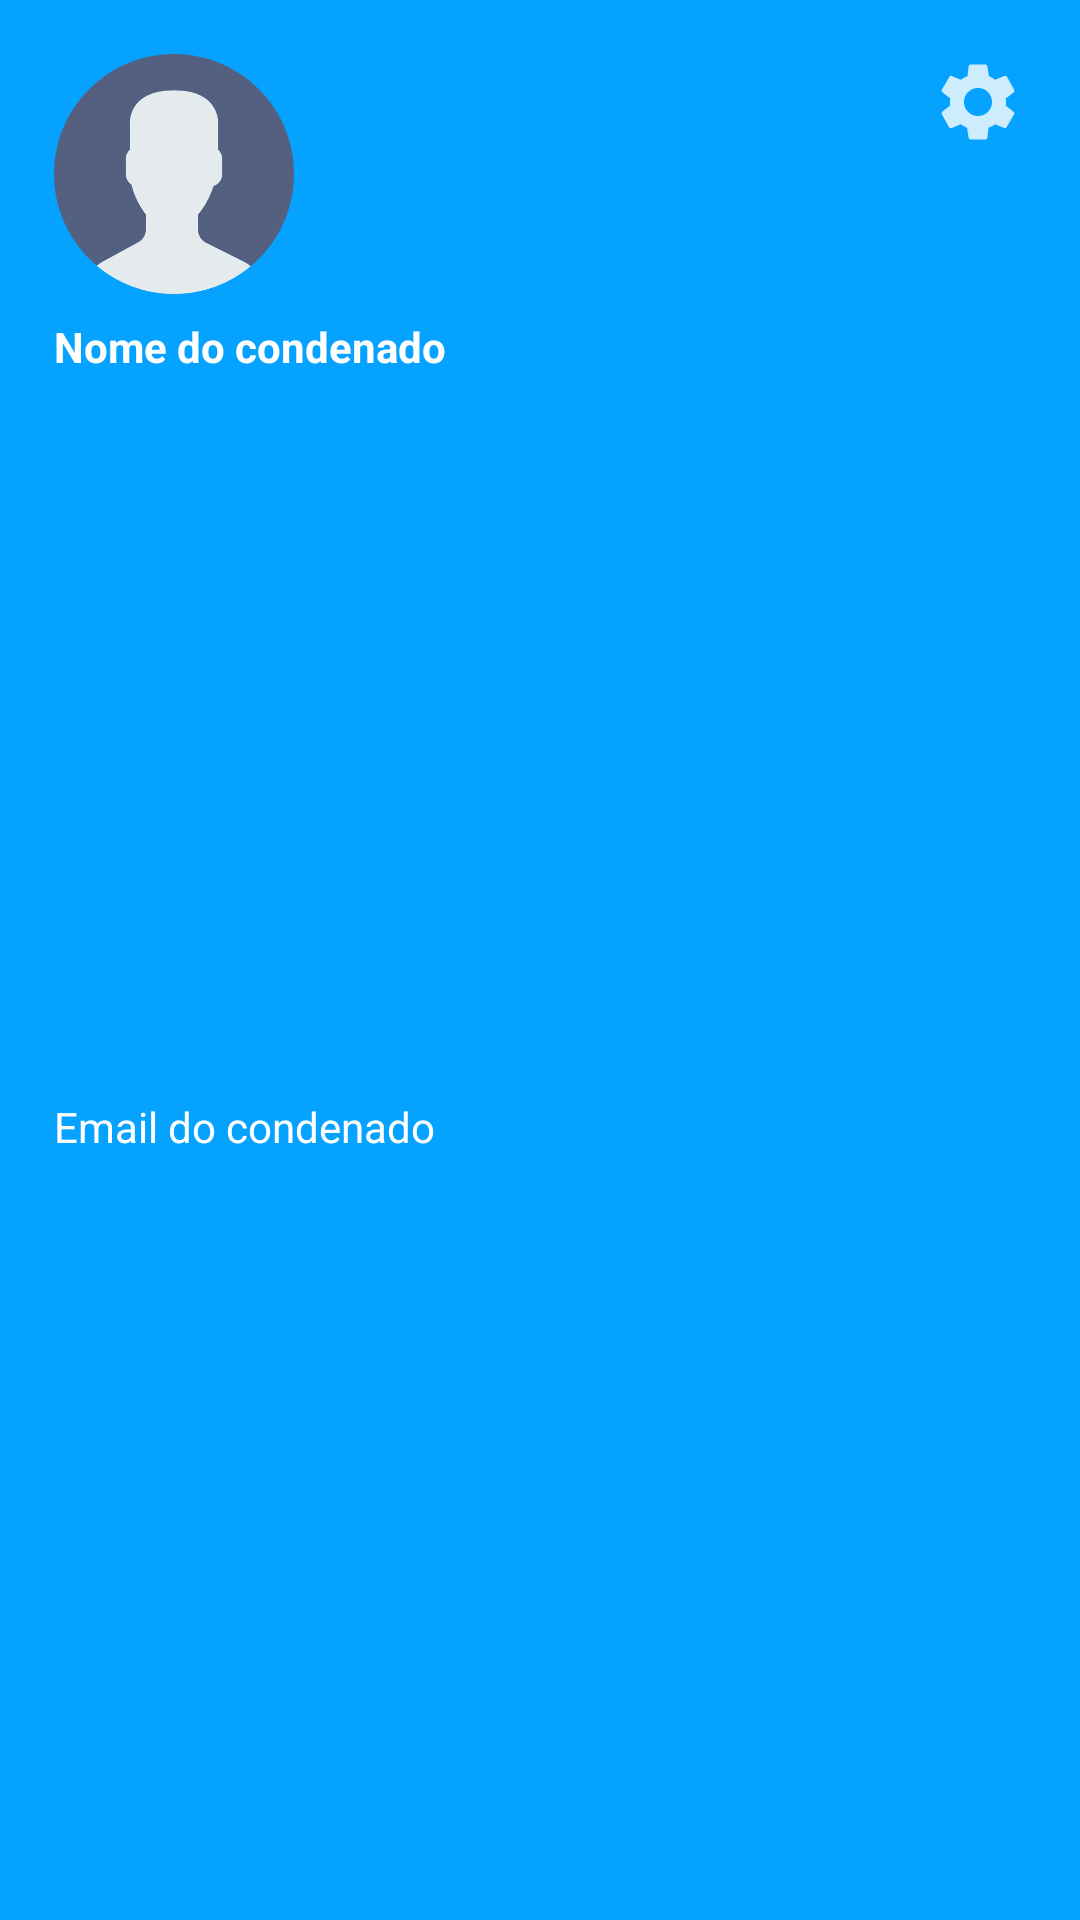

Locate icon controls on the screen. Image size 1080 x 1920, boxes as bbox=[x1, y1, x2, y2].
generic user: bbox=[54, 54, 294, 294]
settings: bbox=[941, 64, 1015, 140]
